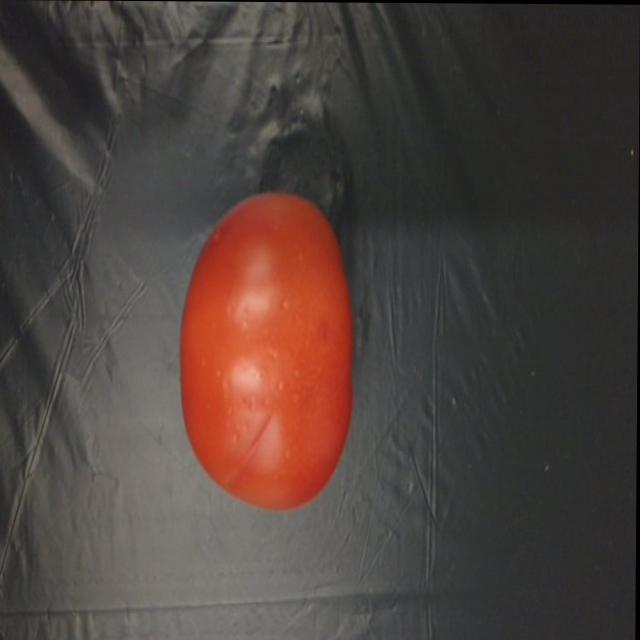kirmizi: (172, 167, 368, 524)
